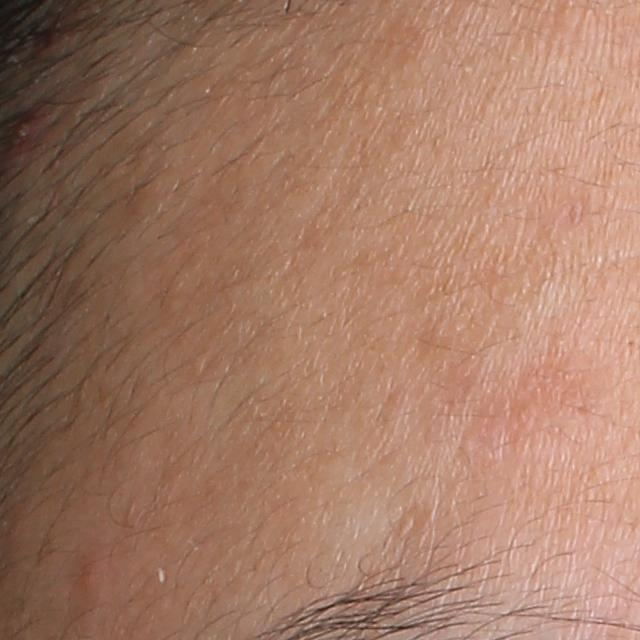papule: (2, 108, 50, 153), (77, 559, 103, 594)
